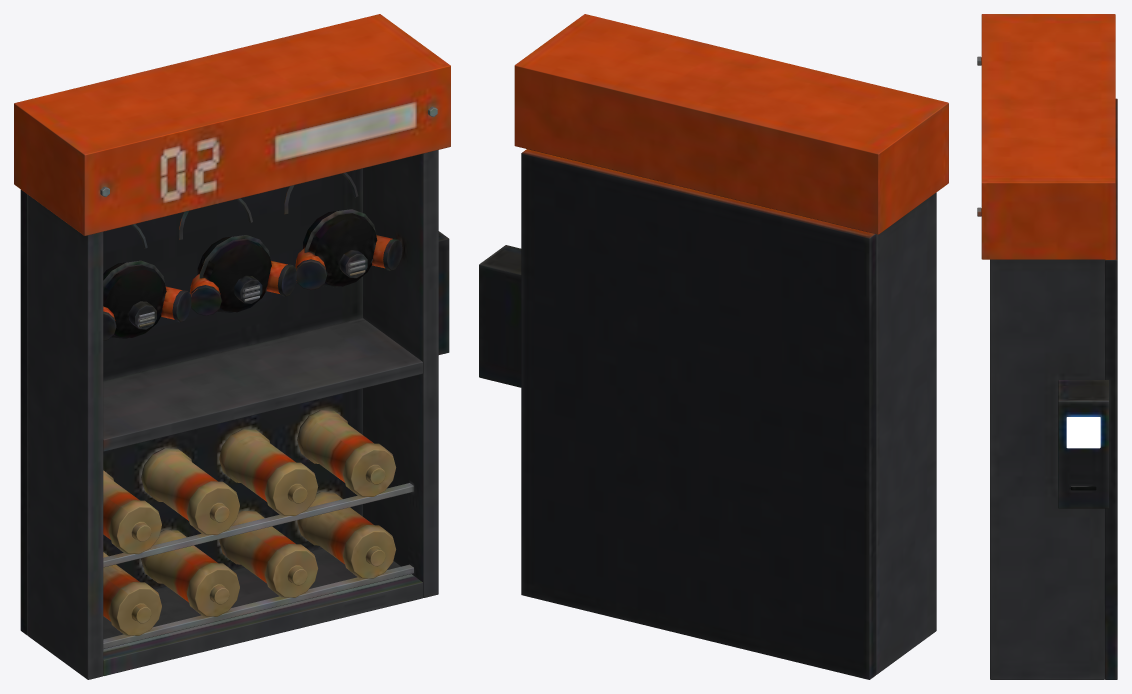
Rendered from mask_station.glb.
3 renders of one model, left to right at view 1: azimuth 30°, elevation 25°; view 2: azimuth 150°, elevation 25°; view 3: azimuth 270°, elevation 25°, orthographic. The views are drawn at different scales.
Parts seen in each view (by area): view 1: mask_station; view 2: mask_station; view 3: mask_station.
Boxes of the visible parts, x1=… form: mask_station: x1=14, y1=14, x2=450, y2=679; mask_station: x1=479, y1=14, x2=948, y2=679; mask_station: x1=977, y1=14, x2=1117, y2=679.
Size of the model in its own units: 1.05 by 1.3 by 0.33.
Materials: 2 (2 with a texture image).
